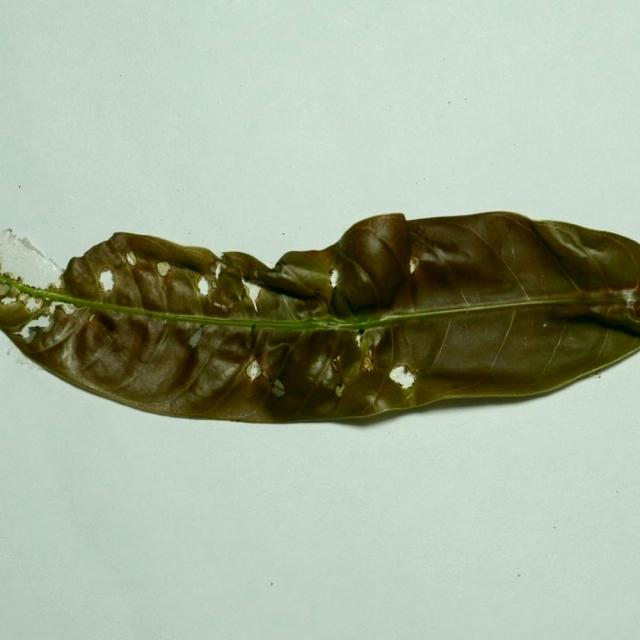Anthracnose: (383, 362, 422, 396), (241, 281, 273, 316), (325, 261, 351, 293), (20, 315, 53, 338), (388, 364, 418, 389), (96, 267, 118, 294), (245, 360, 261, 381), (188, 327, 203, 348), (203, 276, 216, 295), (156, 261, 171, 277), (408, 256, 419, 274)
Mango: (0, 214, 639, 429)
